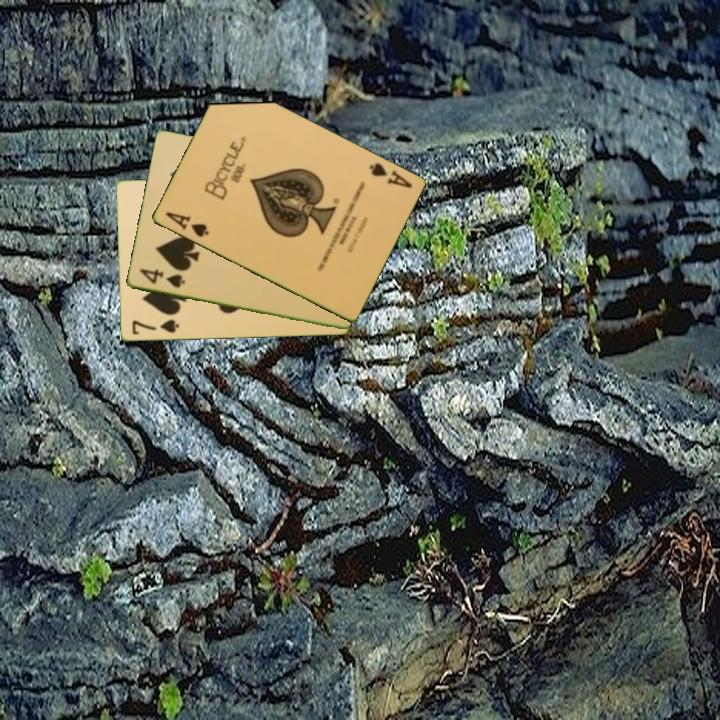4s: (136, 265, 188, 291)
7s: (128, 316, 182, 338)
As: (162, 208, 212, 240), (366, 159, 415, 191)
